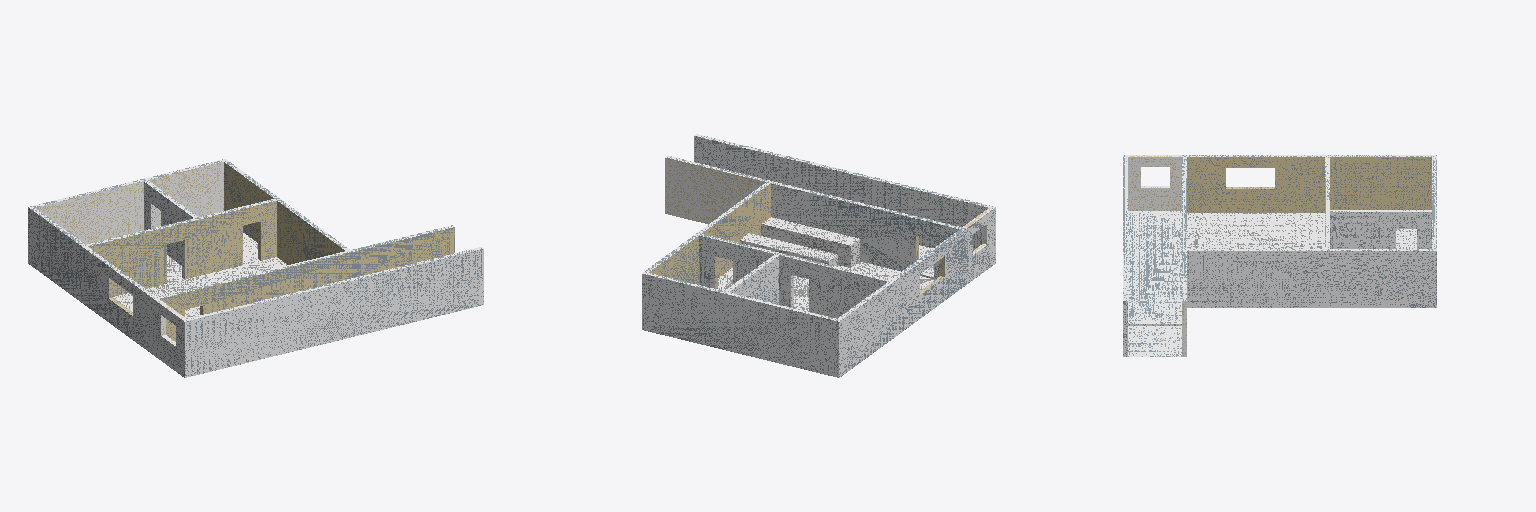
Rendered from COMM690_Proj_3_House.obj.
3 renders of one model, left to right at view 1: azimuth 30°, elevation 25°; view 2: azimuth 150°, elevation 25°; view 3: azimuth 270°, elevation 25°, orthographic.
Visible parts, largest first — view 1: Mesh1 Model; view 2: Mesh1 Model; view 3: Mesh1 Model.
Part boxes in pixels (left/top/right/bottom): Mesh1 Model: left=28, top=159, right=483, bottom=377; Mesh1 Model: left=642, top=134, right=995, bottom=377; Mesh1 Model: left=1123, top=155, right=1436, bottom=356.
Bounding box in the file's own units: 667 × 120 × 605.